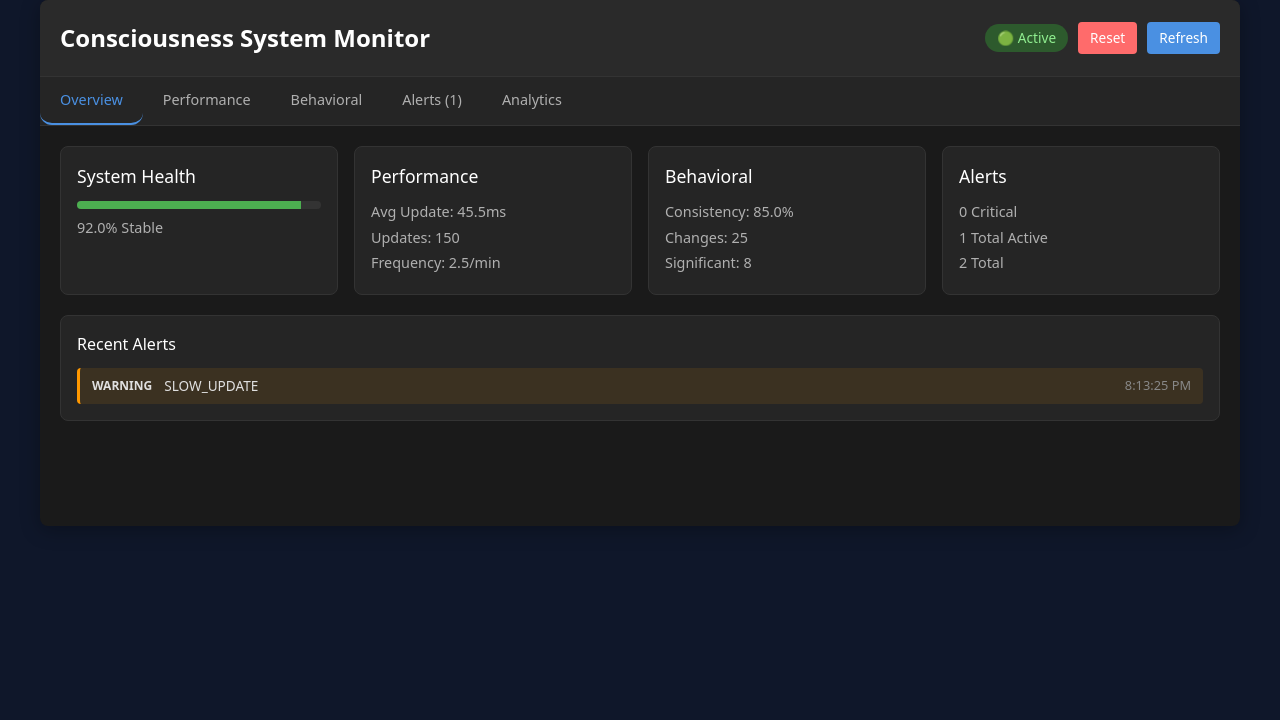
ConsciousnessMonitoringDashboard › Analytics Tab › should show no data messages
Click the button "Analytics" at coordinates (532, 101), box x1=482 y1=77 x2=582 y2=125
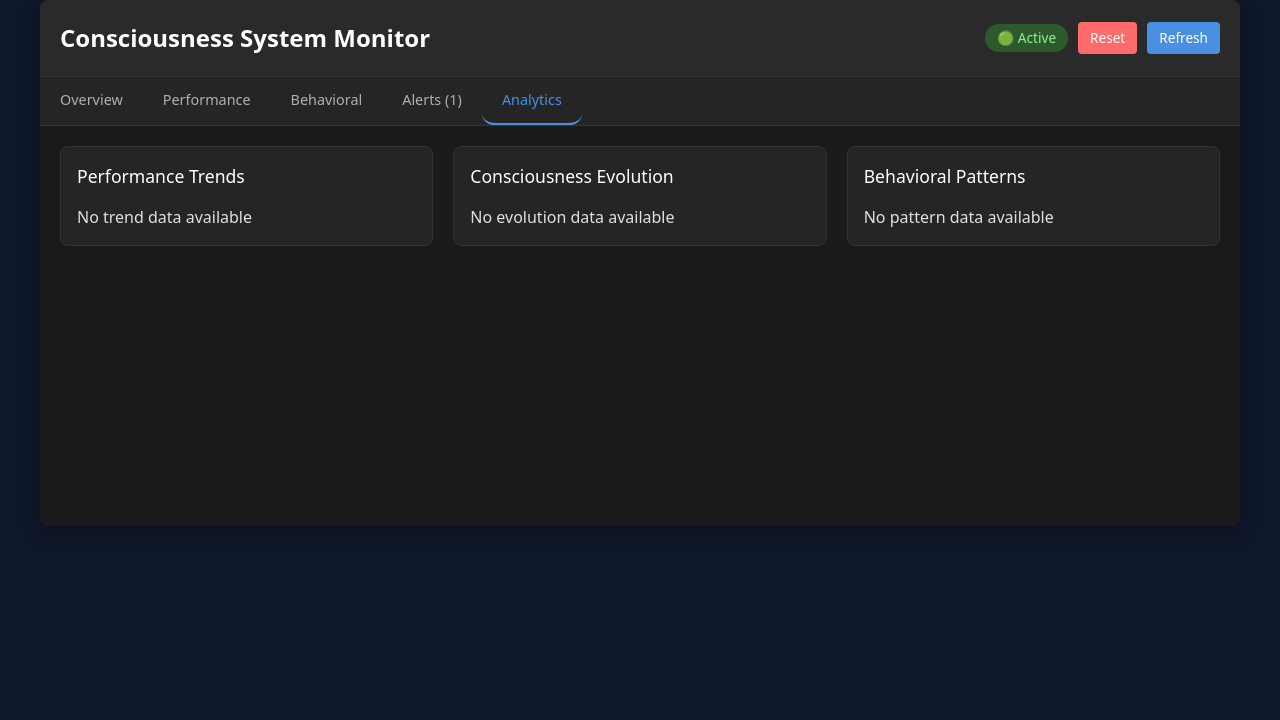
Check: the text "No trend data available" is shown, box x1=77 y1=206 x2=252 y2=228
Check: the text "No evolution data available" is shown, box x1=470 y1=206 x2=674 y2=228
Check: the text "No pattern data available" is shown, box x1=864 y1=206 x2=1054 y2=228
